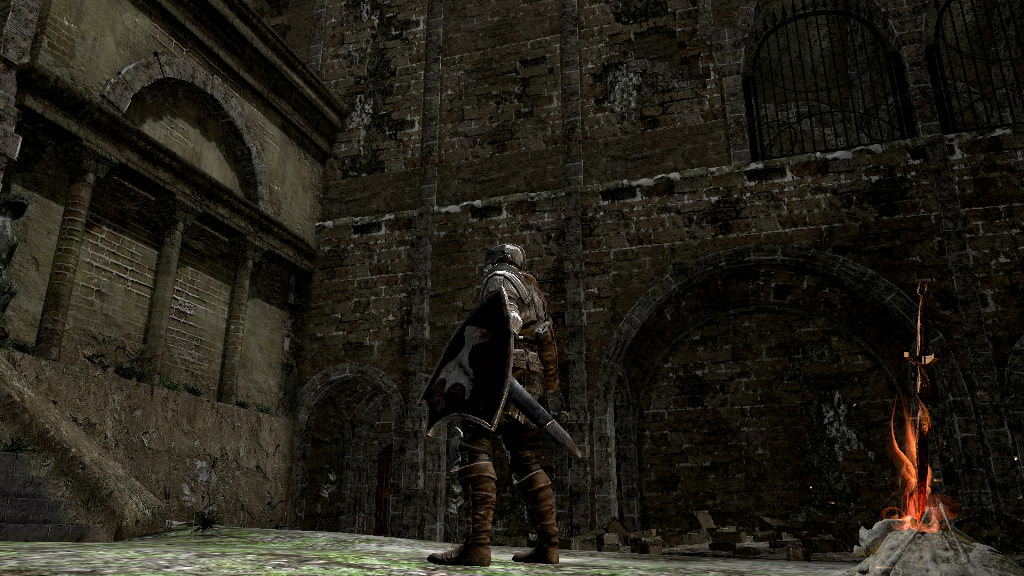bonfire: (863, 280, 975, 565)
player: (414, 244, 586, 568)
